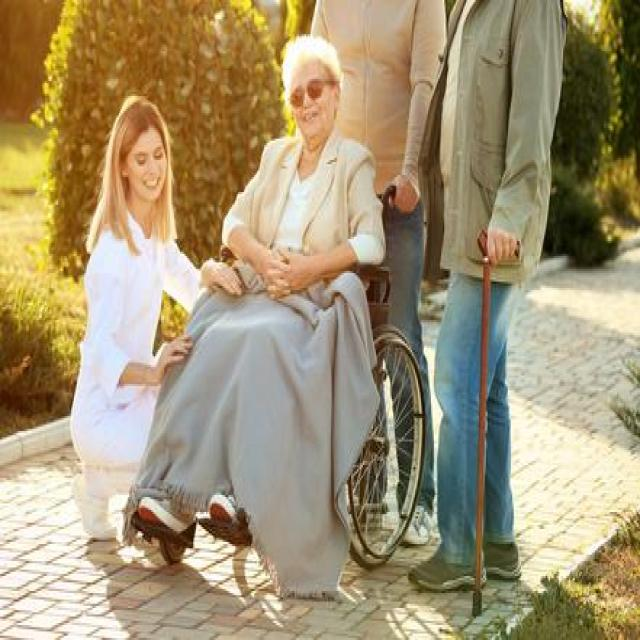wheelchairs: (124, 168, 432, 576)
